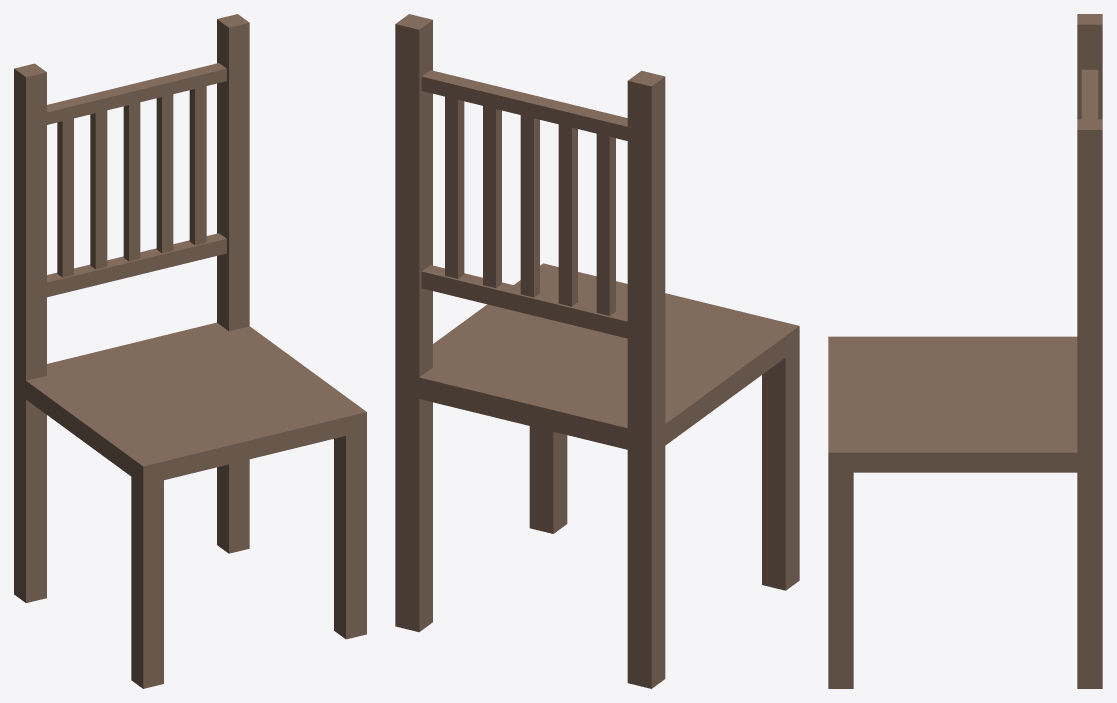
File: Restaurant_Chair.fbx
3 renders of one model, left to right at view 1: azimuth 30°, elevation 25°; view 2: azimuth 150°, elevation 25°; view 3: azimuth 270°, elevation 25°, orthographic. The views are drawn at different scales.
Parts seen in each view (by area): view 1: restaurant_chair; view 2: restaurant_chair; view 3: restaurant_chair.
Part boxes in pixels (left/top/right/bottom): restaurant_chair: left=14, top=14, right=366, bottom=688; restaurant_chair: left=395, top=14, right=799, bottom=688; restaurant_chair: left=828, top=14, right=1102, bottom=688.
Bounding box in the file's own units: 1.74 × 3.91 × 1.74.
